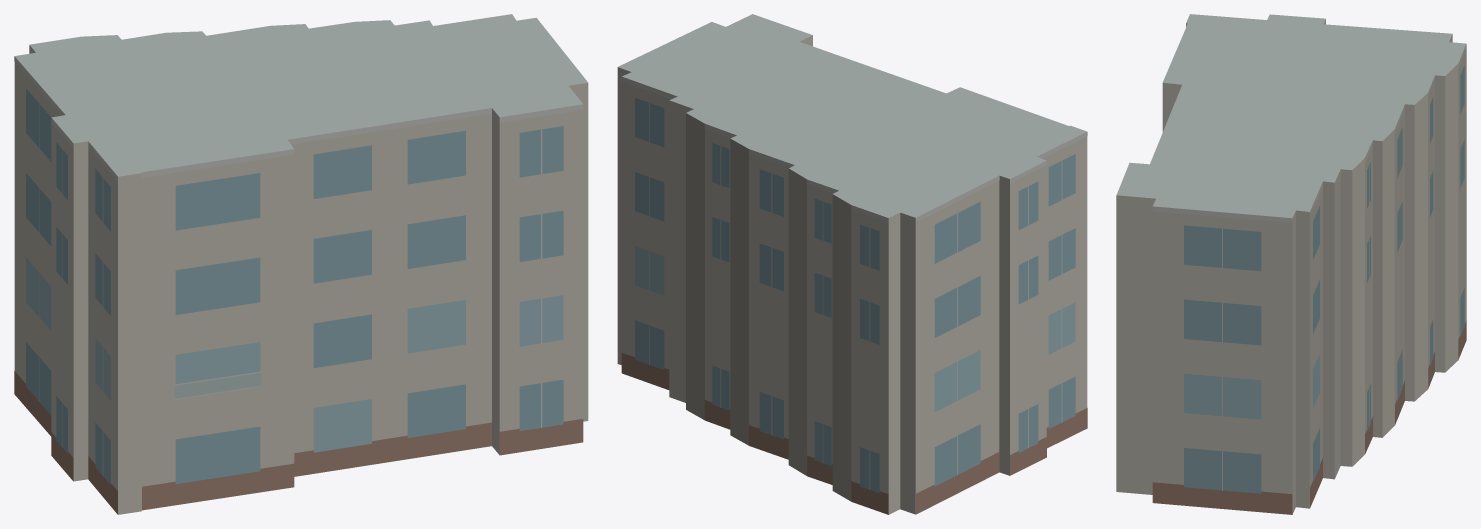
File: survey-upis-32658433.glb
3 views of the same model, side by side, from view 1: azimuth 30°, elevation 25°; view 2: azimuth 150°, elevation 25°; view 3: azimuth 270°, elevation 25° (orthographic). The views are drawn at different scales.
Parts seen in each view (by area): view 1: survey-upis-32658433.tmp; view 2: survey-upis-32658433.tmp; view 3: survey-upis-32658433.tmp.
Part boxes in pixels (x1,y1,x2,y2): survey-upis-32658433.tmp: [14, 14, 588, 514]; survey-upis-32658433.tmp: [617, 14, 1087, 514]; survey-upis-32658433.tmp: [1116, 14, 1466, 514].
Bounding box in the file's own units: 22.26 × 15.07 × 16.13.
